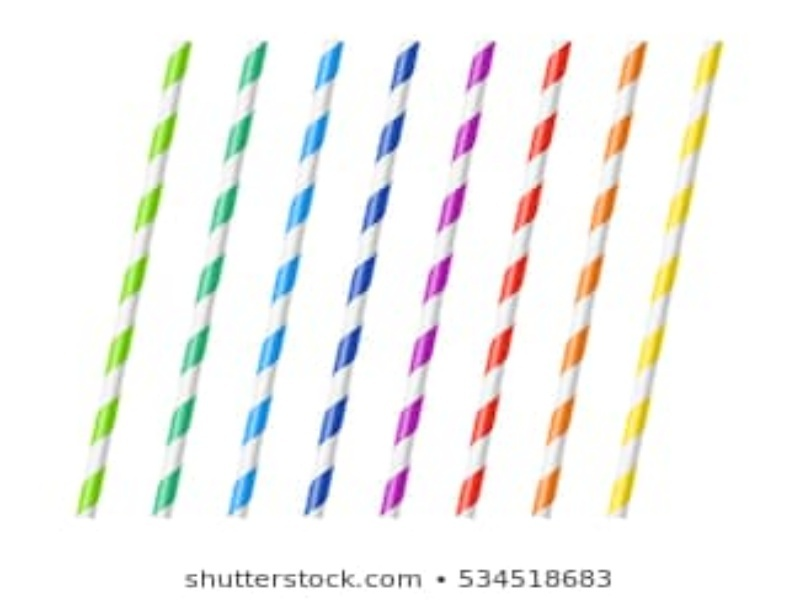straw: (73, 37, 195, 524), (456, 40, 578, 527), (377, 38, 499, 525), (301, 39, 423, 526), (224, 36, 346, 523), (604, 39, 726, 526), (525, 39, 647, 526), (152, 34, 269, 519)
